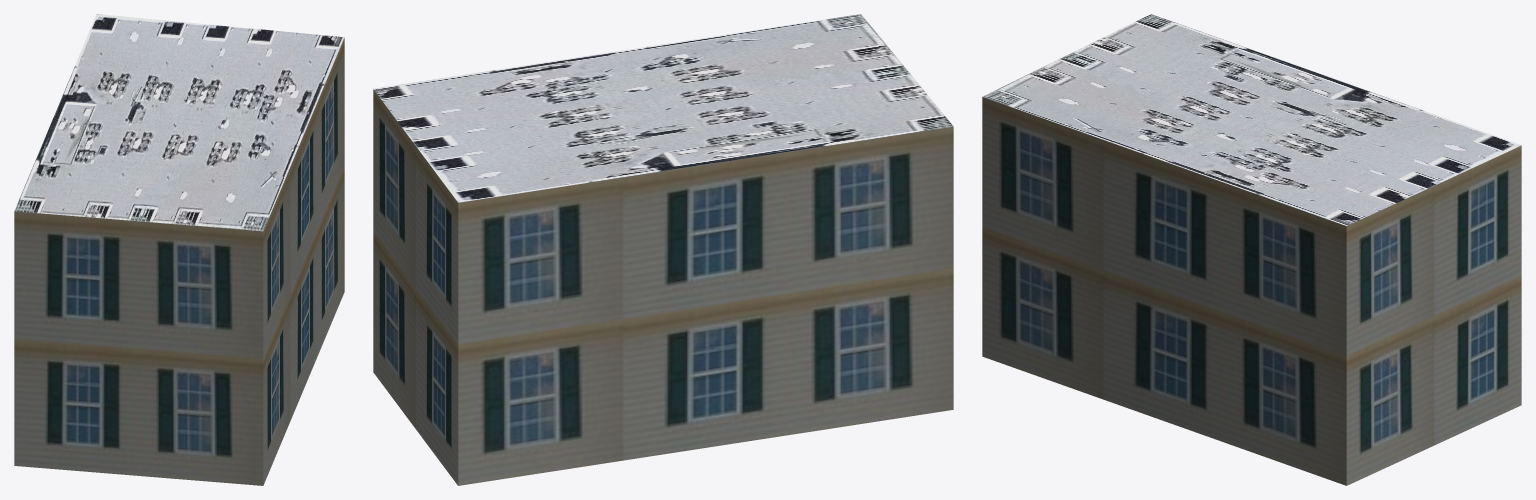
The model's file is ResTex__1849.fbx.
3 renders of one model, left to right at view 1: azimuth 30°, elevation 25°; view 2: azimuth 150°, elevation 25°; view 3: azimuth 270°, elevation 25°, orthographic. The views are drawn at different scales.
Visible parts, largest first — view 1: CityEngineMaterial_7_m, CityEngineMaterial_4_m; view 2: CityEngineMaterial_7_m, CityEngineMaterial_4_m; view 3: CityEngineMaterial_7_m, CityEngineMaterial_4_m.
Boxes of the visible parts, bbox=[...] form: CityEngineMaterial_7_m: bbox=[14, 38, 344, 485]; CityEngineMaterial_4_m: bbox=[14, 14, 344, 231]; CityEngineMaterial_7_m: bbox=[373, 89, 953, 485]; CityEngineMaterial_4_m: bbox=[373, 14, 953, 202]; CityEngineMaterial_7_m: bbox=[982, 97, 1521, 485]; CityEngineMaterial_4_m: bbox=[982, 14, 1521, 225].
Size of the model in its own units: 10.51 by 6 by 11.3.
Materials: 2 (2 with a texture image).
